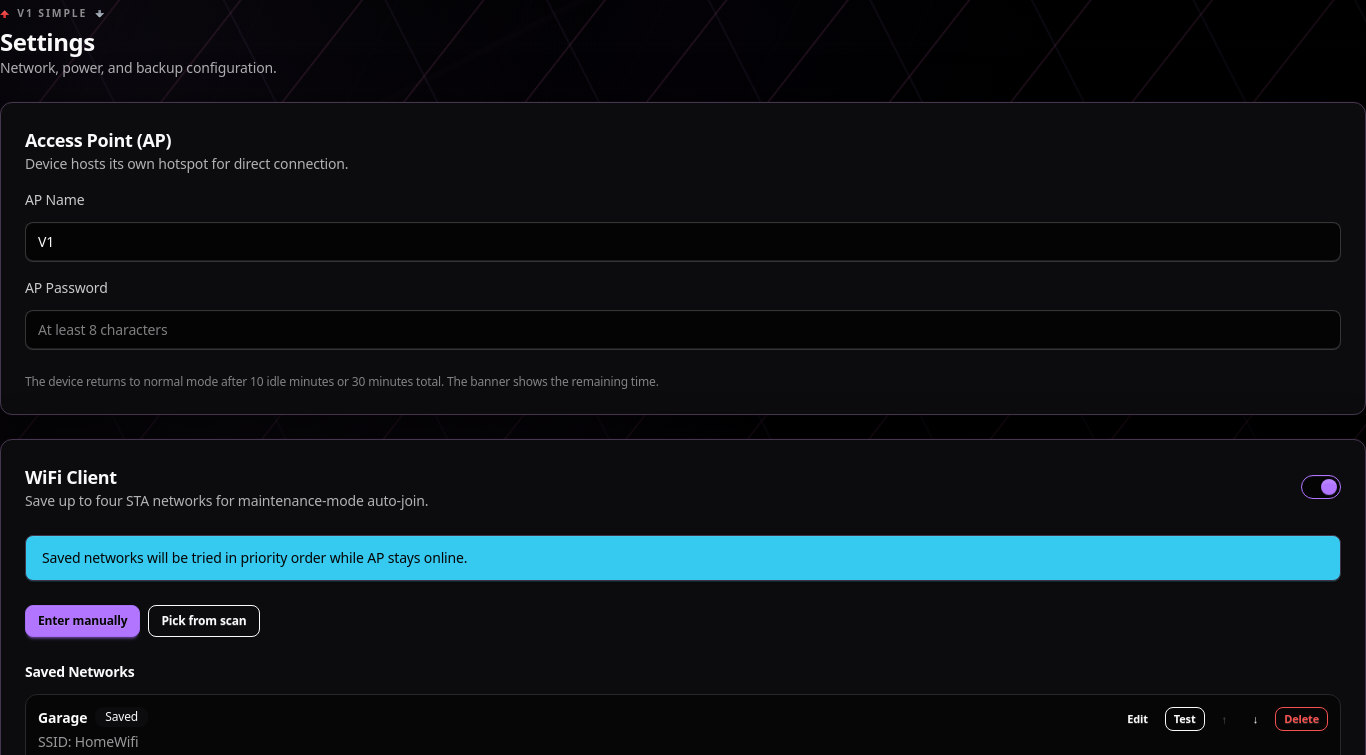
Test: settings route page › manual add dialog accepts label, SSID, password, and priority
The width and height of the screenshot is (1366, 755).
Click the button "Enter manually": point(83, 621) [25,605,140,637]
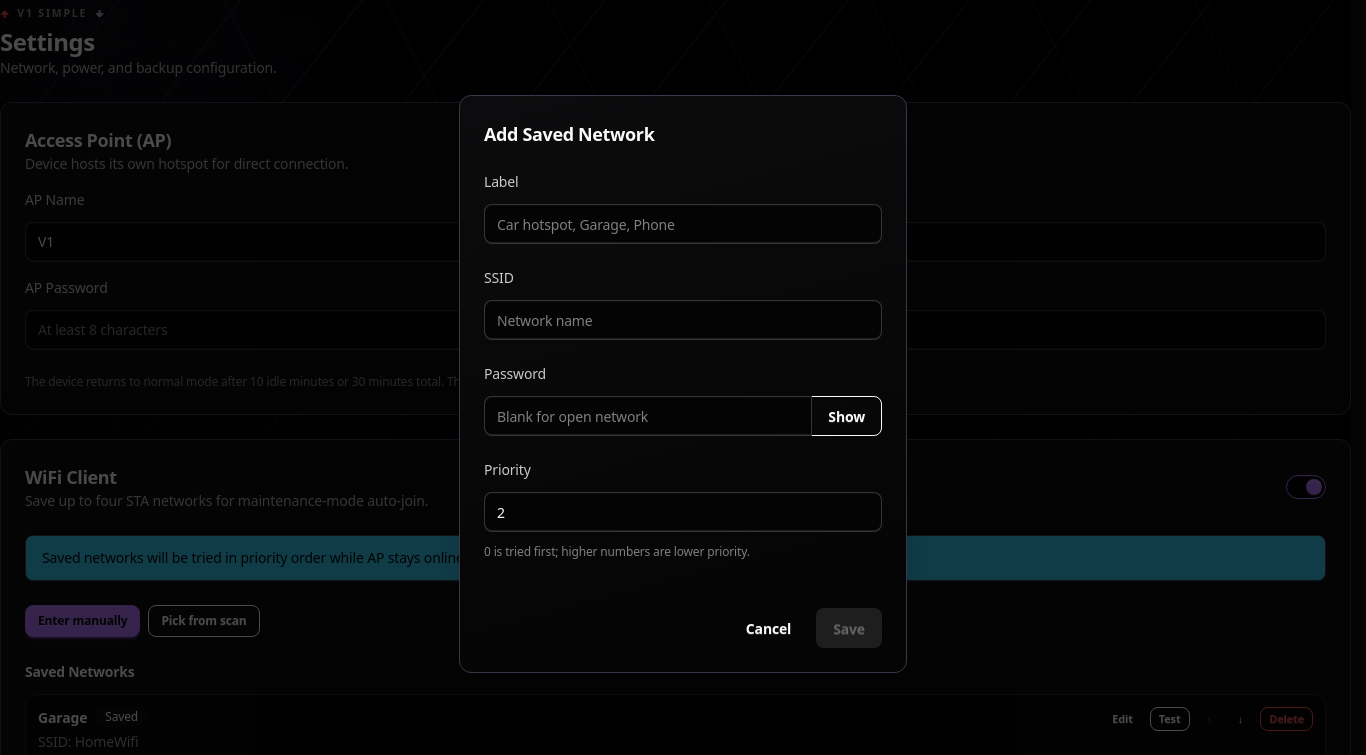
Result: the heading "Add Saved Network" is shown at [484,122,654,146]
In the field labelled "Label": point(683, 224) [484,204,882,244], type "Car hotspot"
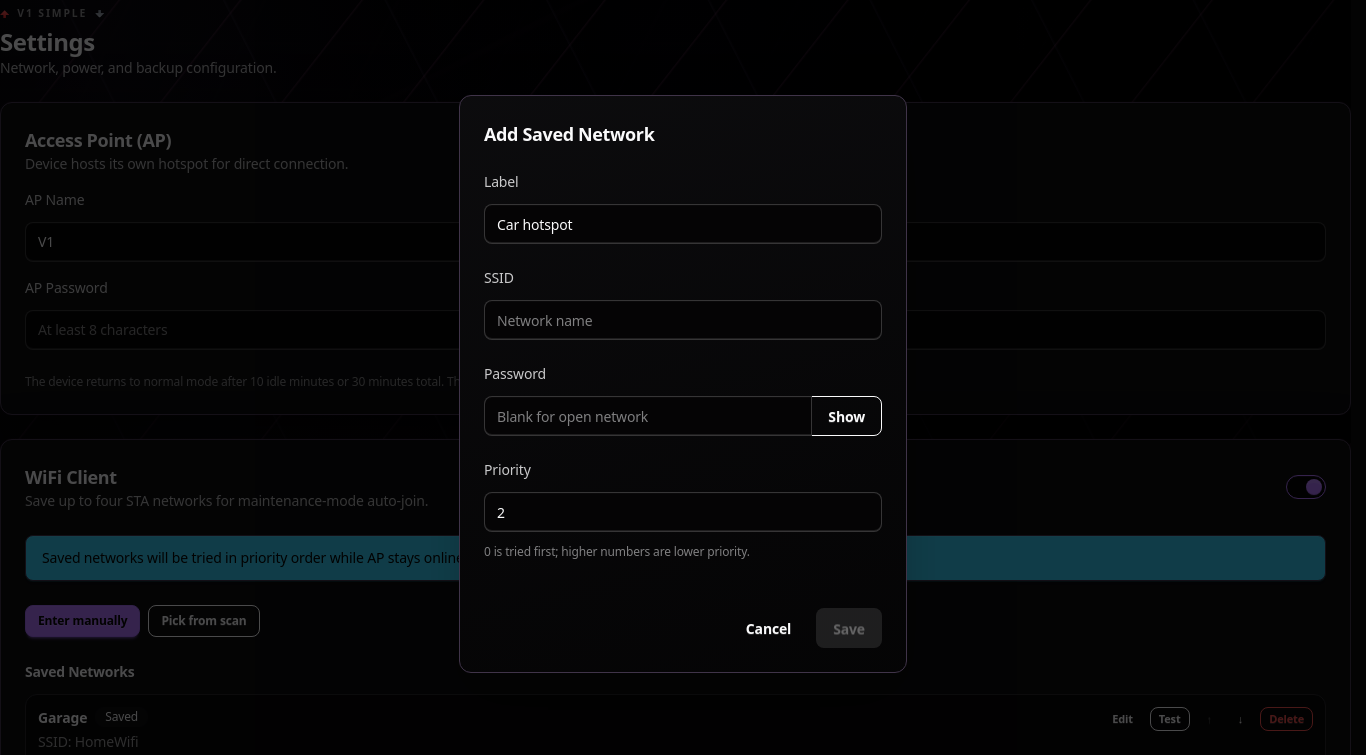
In the field labelled "SSID": point(683, 320) [484,300,882,340], type "CarAP"
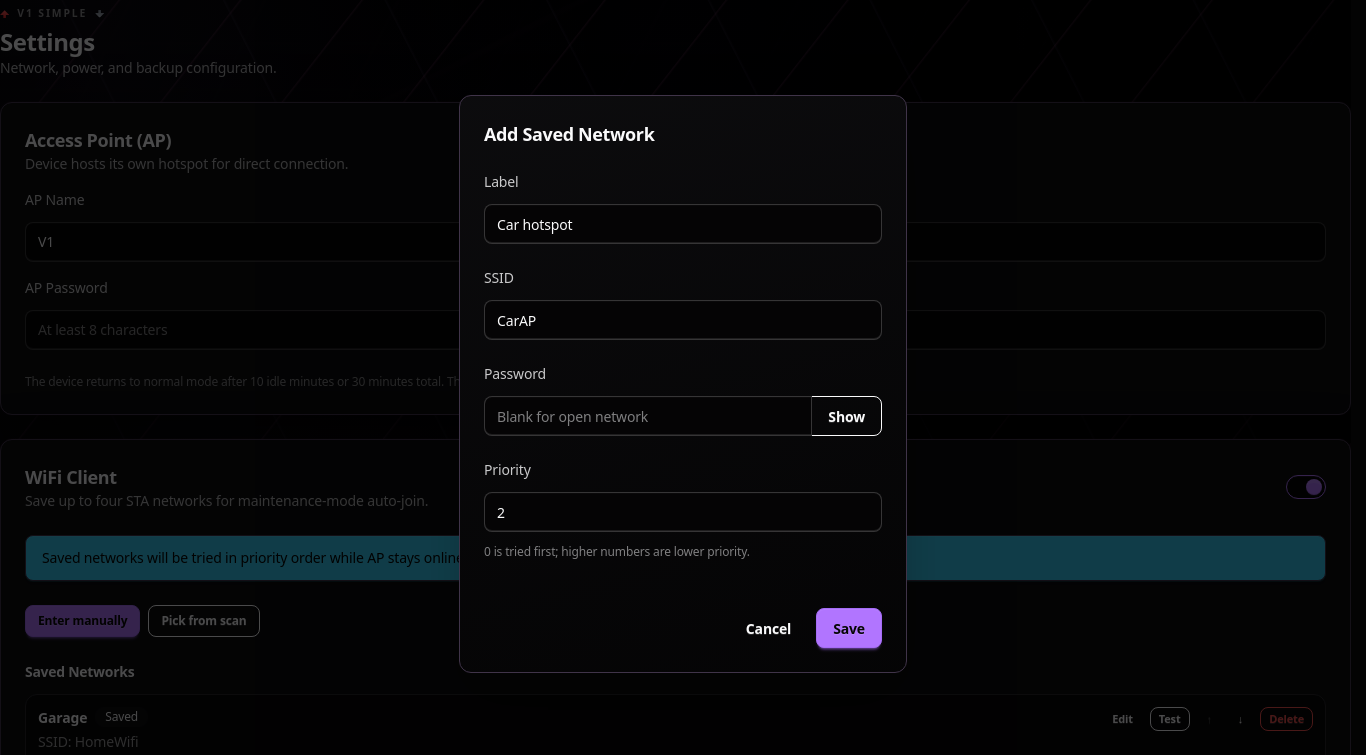
In the password field labelled "Password": point(648, 416) [484,396,812,436], type "secret123"
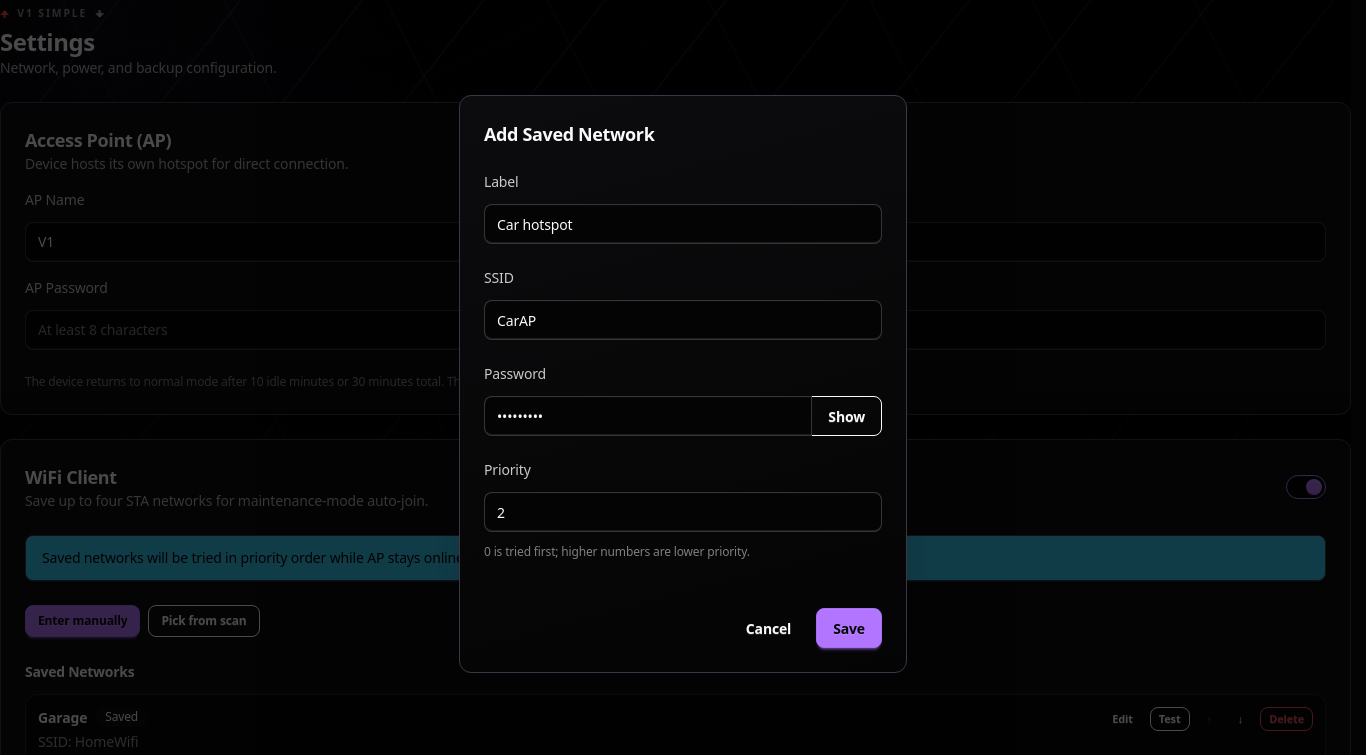
Replace the text in the number field labelled "Priority" with "0": point(683, 512) [484,492,882,532]
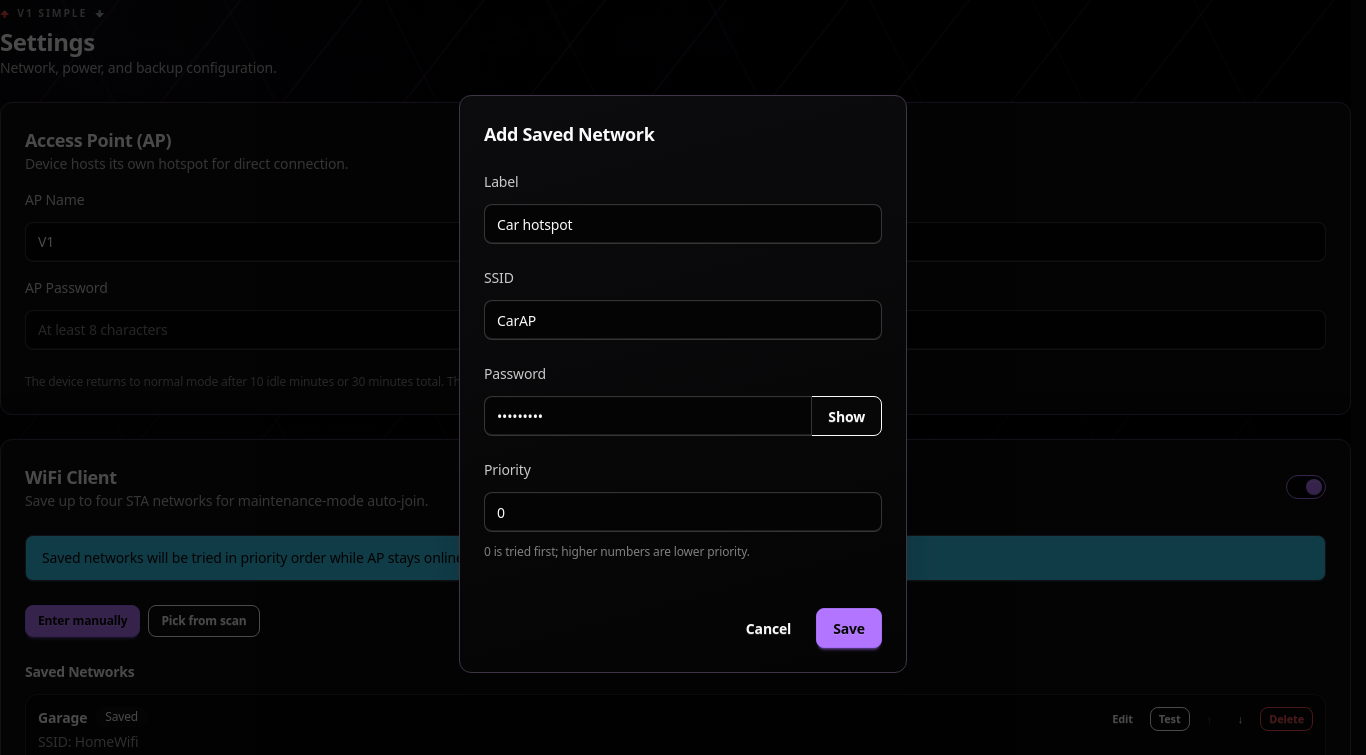
Click the button "Save": point(849, 628) [816,608,882,648]
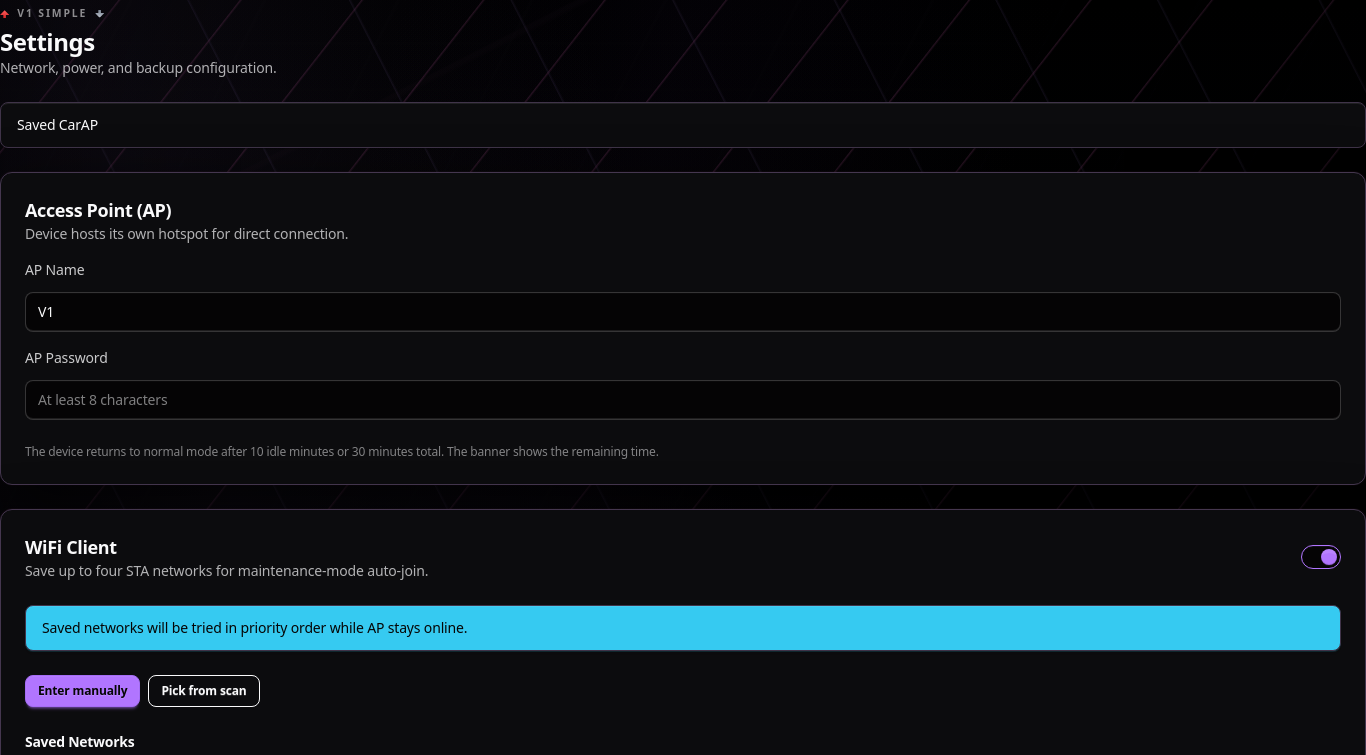
Result: the text "Saved CarAP" is shown at [17,115,98,135]
